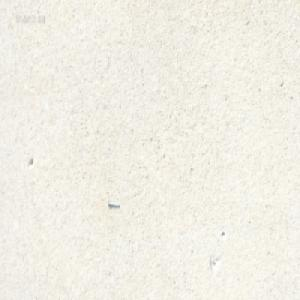Nail: (107, 200, 122, 210)
